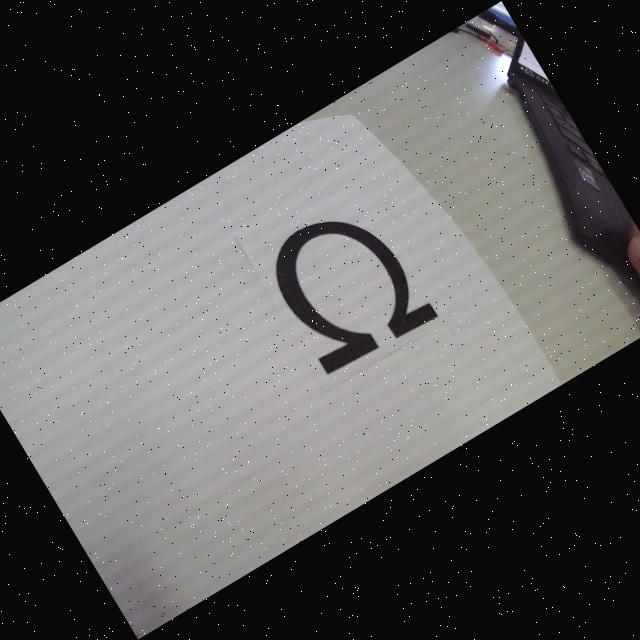OMEGA: (256, 191, 439, 381)
